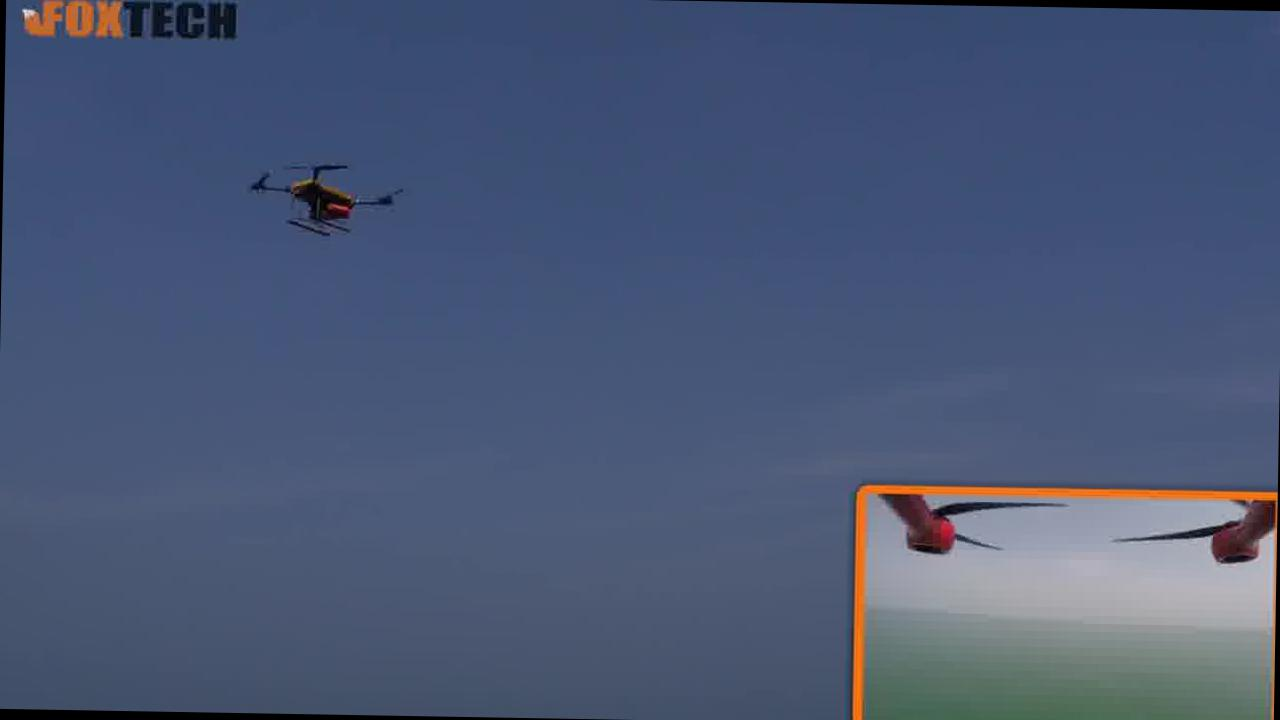drone: (212, 144, 444, 258)
